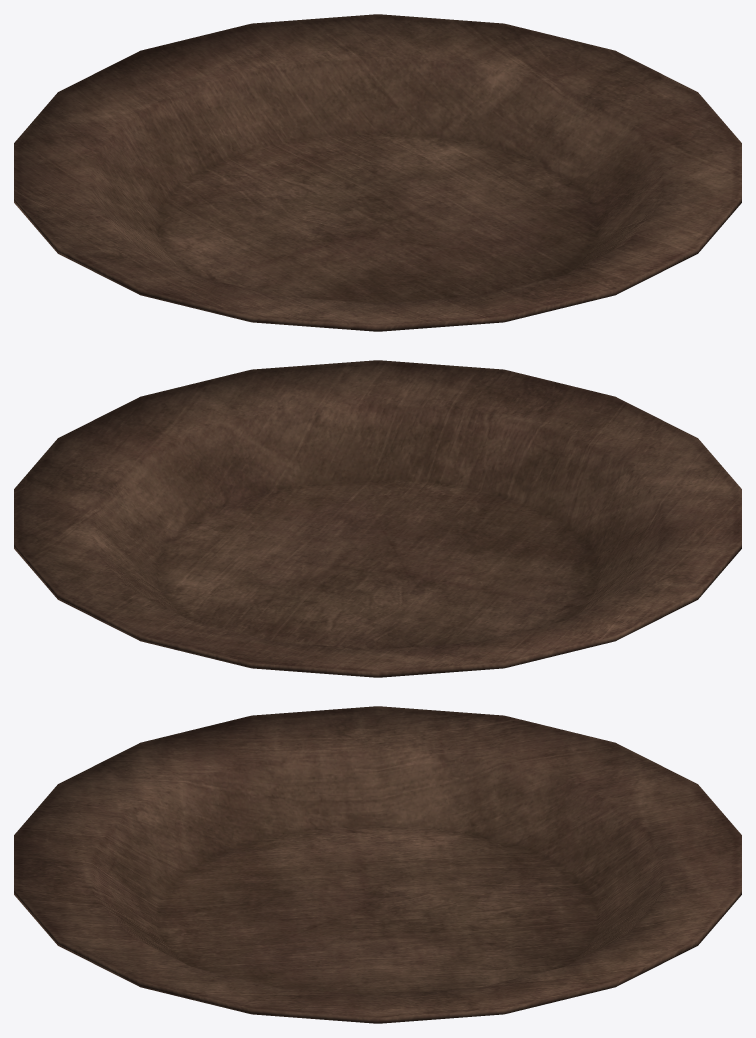
The model's file is wood_plate_fbx.glb.
The picture shows the model from 3 angles, top to bottom: view 1: azimuth 30°, elevation 25°; view 2: azimuth 150°, elevation 25°; view 3: azimuth 270°, elevation 25°; orthographic projection.
Visible parts, largest first — view 1: plate_low; view 2: plate_low; view 3: plate_low.
Part boxes in pixels (x1,y1,x2,y2): plate_low: [14, 14, 741, 331]; plate_low: [14, 360, 741, 677]; plate_low: [14, 706, 741, 1023].
Bounding box in the file's own units: 36.88 × 3.37 × 36.32.
1 material, 1 textured.
